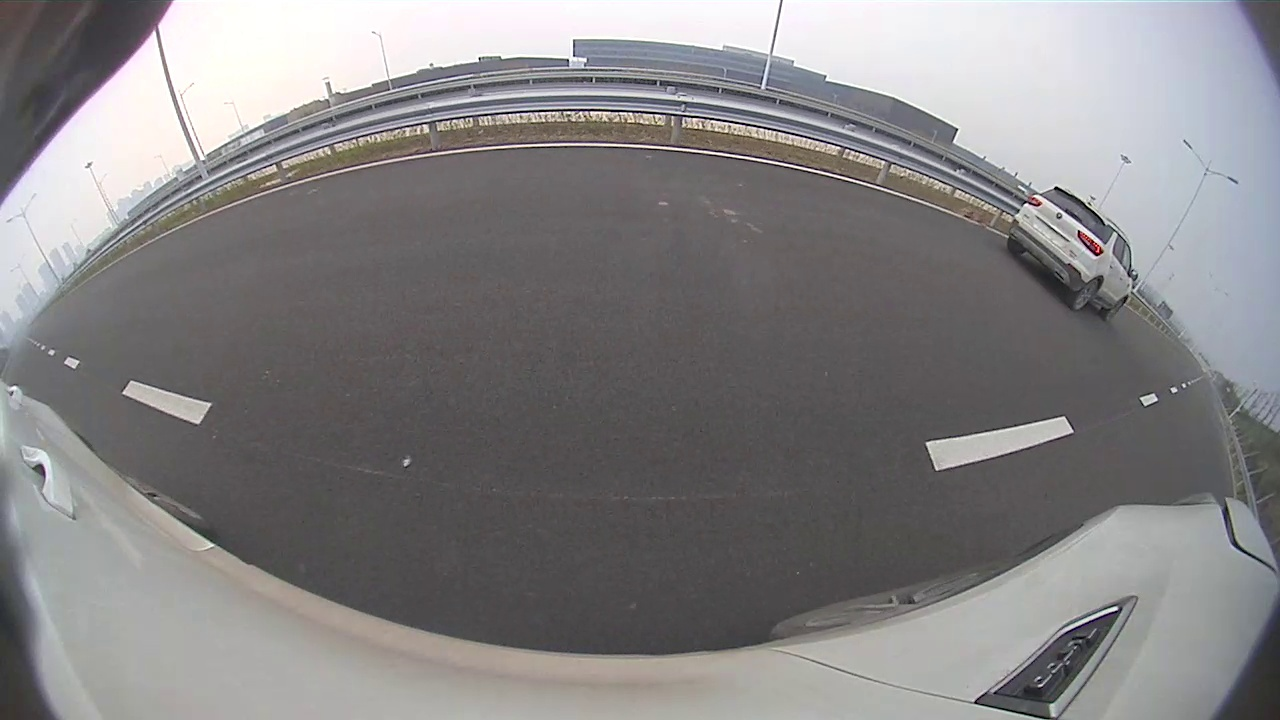car: (1007, 187, 1138, 320)
rear: (1070, 279, 1103, 313)
